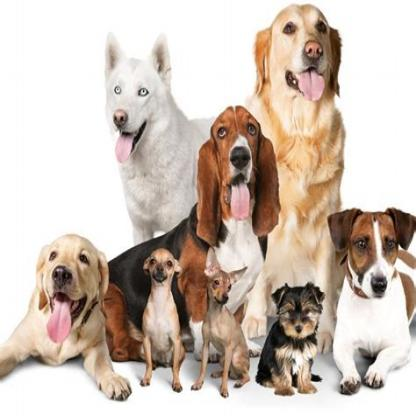dog: (93, 110, 273, 359), (245, 10, 344, 357), (91, 36, 217, 232), (0, 232, 133, 400), (324, 208, 416, 390), (200, 244, 253, 396), (264, 285, 325, 396), (143, 249, 184, 399)
